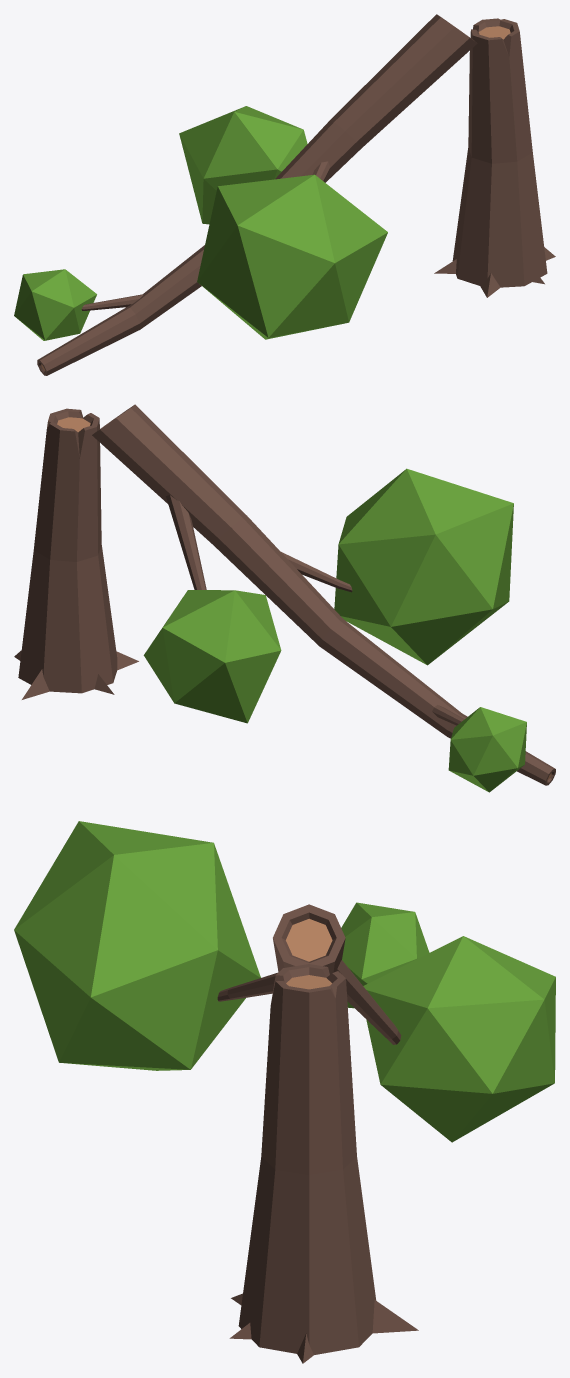
Rendered from FallenTree_02.fbx.
The picture shows the model from 3 angles, top to bottom: view 1: azimuth 30°, elevation 25°; view 2: azimuth 150°, elevation 25°; view 3: azimuth 270°, elevation 25°; orthographic projection. The views are drawn at different scales.
Parts seen in each view (by area): view 1: FallenTree_02; view 2: FallenTree_02; view 3: FallenTree_02.
Boxes of the visible parts, bbox=[...] form: FallenTree_02: bbox=[14, 14, 555, 375]; FallenTree_02: bbox=[14, 404, 555, 792]; FallenTree_02: bbox=[14, 821, 555, 1363].
Size of the model in its own units: 539 by 266 by 343.
